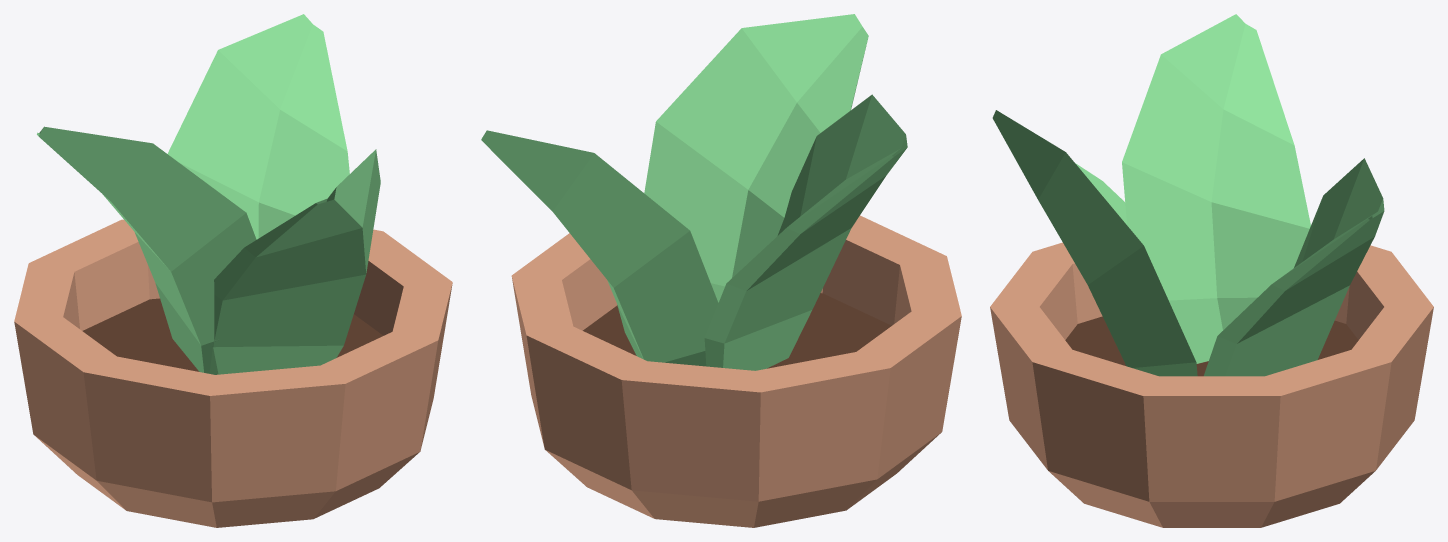
The model's file is plant.fbx.
The picture shows the model from 3 angles, left to right: view 1: azimuth 30°, elevation 25°; view 2: azimuth 150°, elevation 25°; view 3: azimuth 270°, elevation 25°; orthographic projection. The views are drawn at different scales.
Visible parts, largest first — view 1: Plant; view 2: Plant; view 3: Plant.
Part boxes in pixels (x1,y1,x2,y2): Plant: [14, 14, 452, 527]; Plant: [481, 14, 961, 527]; Plant: [990, 14, 1433, 527].
Size of the model in its own units: 34.55 by 34.2 by 36.33.
